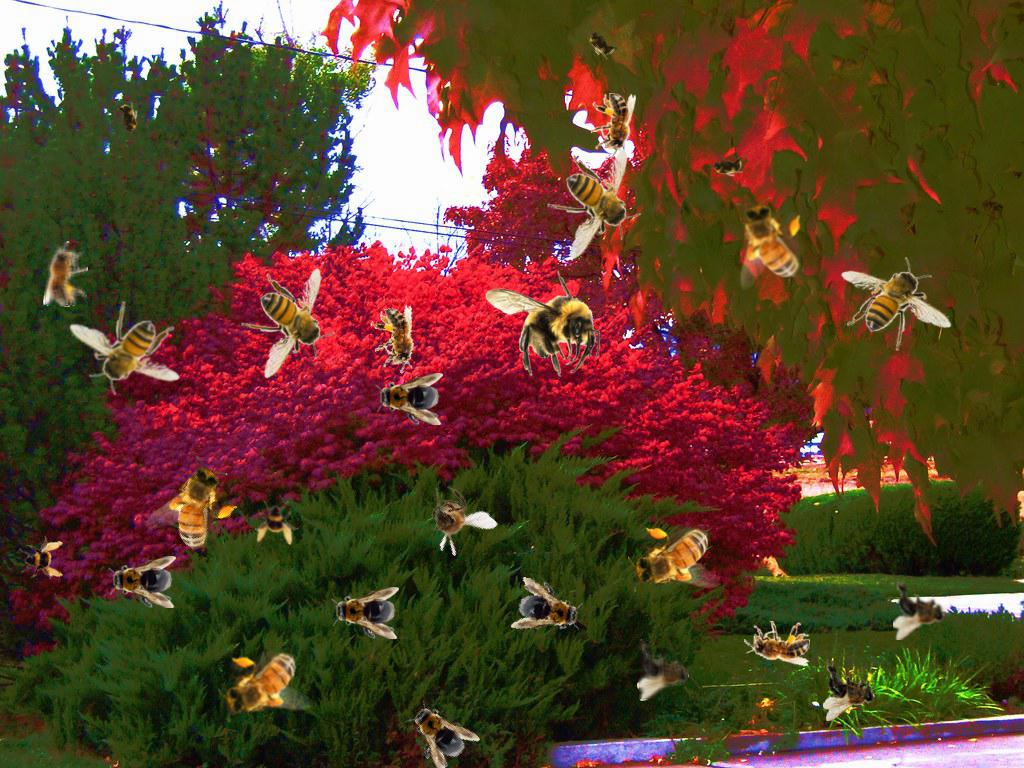Bee: (139, 451, 253, 566), (485, 270, 600, 377), (69, 301, 180, 395), (241, 268, 335, 379), (841, 257, 952, 351), (547, 149, 641, 260), (406, 473, 499, 567), (213, 645, 315, 724), (395, 691, 481, 768), (628, 524, 721, 592), (736, 197, 804, 290), (510, 576, 588, 642), (366, 303, 426, 378), (108, 556, 176, 608), (375, 373, 443, 425), (331, 587, 399, 639), (637, 639, 690, 701), (823, 659, 876, 721), (893, 578, 946, 640), (43, 241, 88, 307), (744, 621, 810, 666), (591, 93, 636, 159), (18, 534, 66, 582), (579, 20, 623, 66), (255, 501, 299, 545), (114, 97, 142, 141), (707, 155, 747, 177)
